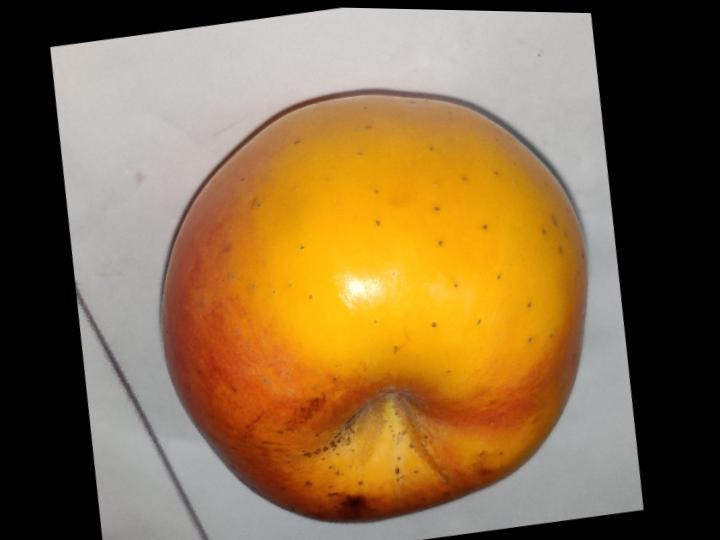apple: (162, 94, 585, 521)
bruise_discoloration: (301, 390, 441, 487)
